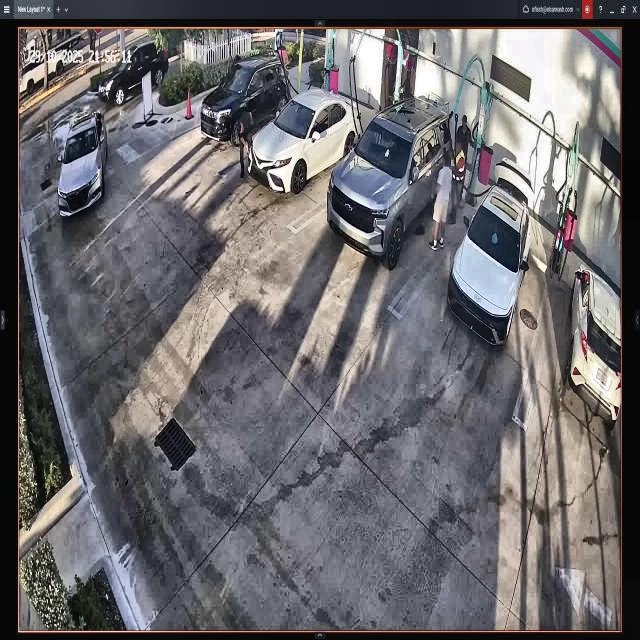Car: (328, 96, 453, 268), (447, 166, 532, 347), (249, 86, 363, 198), (200, 58, 292, 145)
